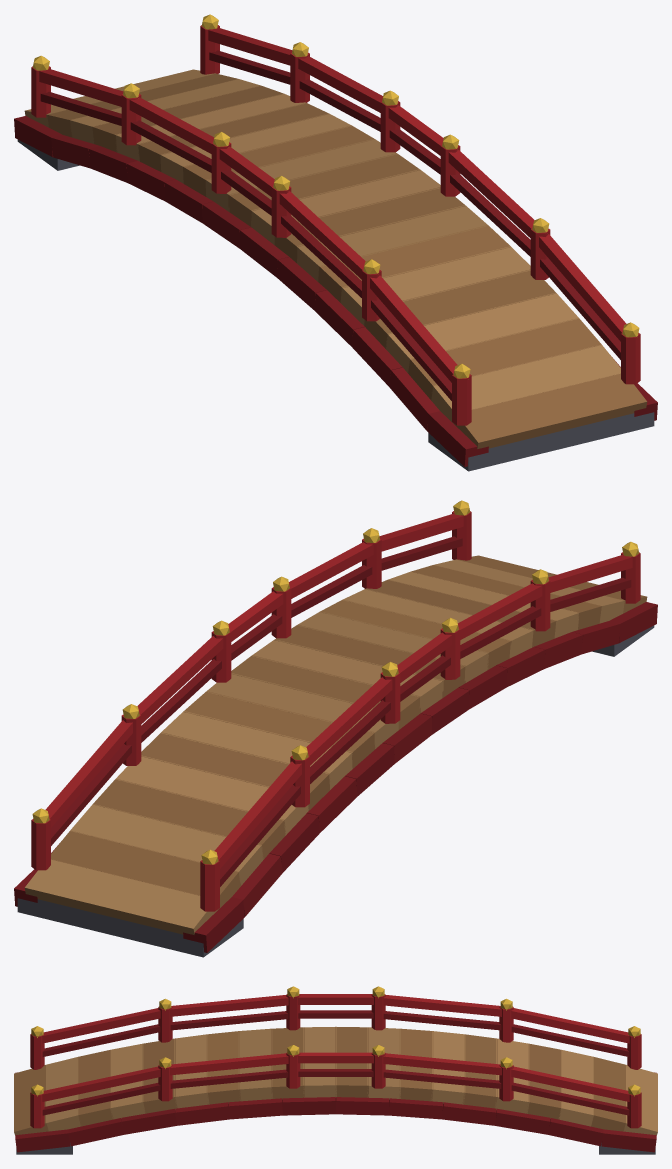
Rendered from Decor_NinjaDojo_Bridge.fbx.
3 views of the same model, one above another, from view 1: azimuth 30°, elevation 25°; view 2: azimuth 150°, elevation 25°; view 3: azimuth 270°, elevation 25° (orthographic). The views are drawn at different scales.
Parts seen in each view (by area): view 1: Bridge_Body; view 2: Bridge_Body; view 3: Bridge_Body.
Boxes of the visible parts, bbox=[...] form: Bridge_Body: bbox=[14, 14, 657, 471]; Bridge_Body: bbox=[14, 500, 657, 957]; Bridge_Body: bbox=[14, 986, 657, 1154].
Size of the model in its own units: 4.4 by 3.3 by 18.
